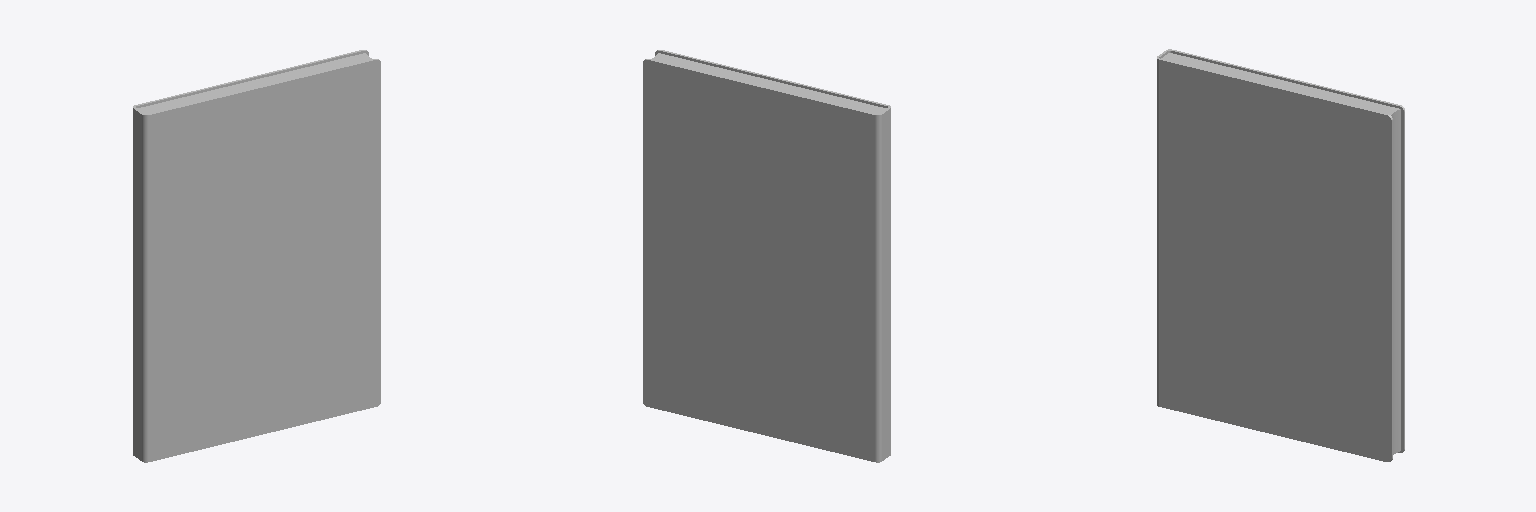
File: 日记本.obj
The picture shows the model from 3 angles: view 1: azimuth 30°, elevation 25°; view 2: azimuth 150°, elevation 25°; view 3: azimuth 330°, elevation 25°; orthographic projection.
Parts seen in each view (by area): view 1: ____01, ____01_(1); view 2: ____01, ____01_(1); view 3: ____01, ____01_(1).
Boxes of the visible parts, box(x1,y1,x2,y2) form: ____01: box(133, 50, 380, 462); ____01_(1): box(137, 53, 371, 113); ____01: box(643, 50, 890, 462); ____01_(1): box(652, 53, 886, 113); ____01: box(1157, 49, 1404, 461); ____01_(1): box(1161, 53, 1400, 454).
Bounding box in the file's own units: 0.05 × 0.07 × 0.005.